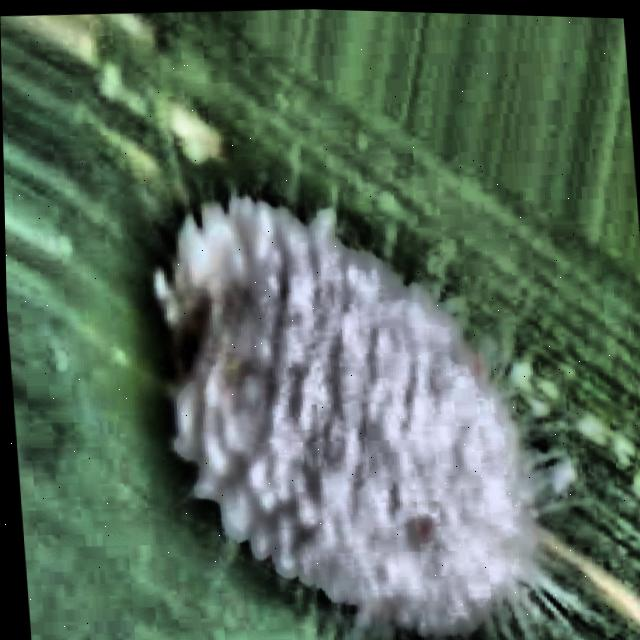Mealy-bug: (2, 115, 631, 640)
